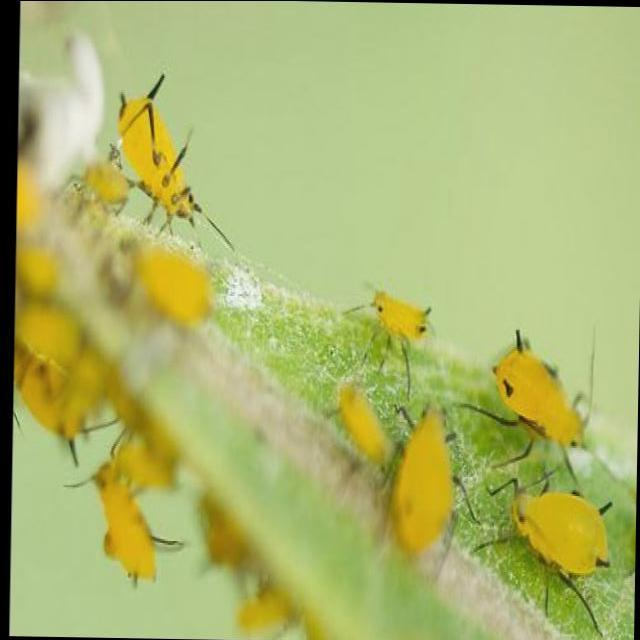aphid: (461, 448, 619, 612), (102, 64, 235, 248), (454, 312, 592, 468), (370, 265, 436, 342)
